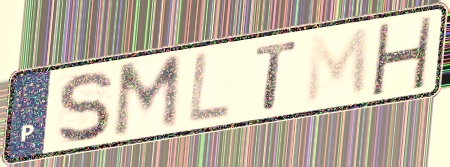H: (368, 15, 435, 96)
L: (185, 49, 233, 125)
M: (110, 51, 186, 143), (303, 25, 371, 108)
S: (55, 68, 114, 147)
T: (253, 37, 301, 113)
